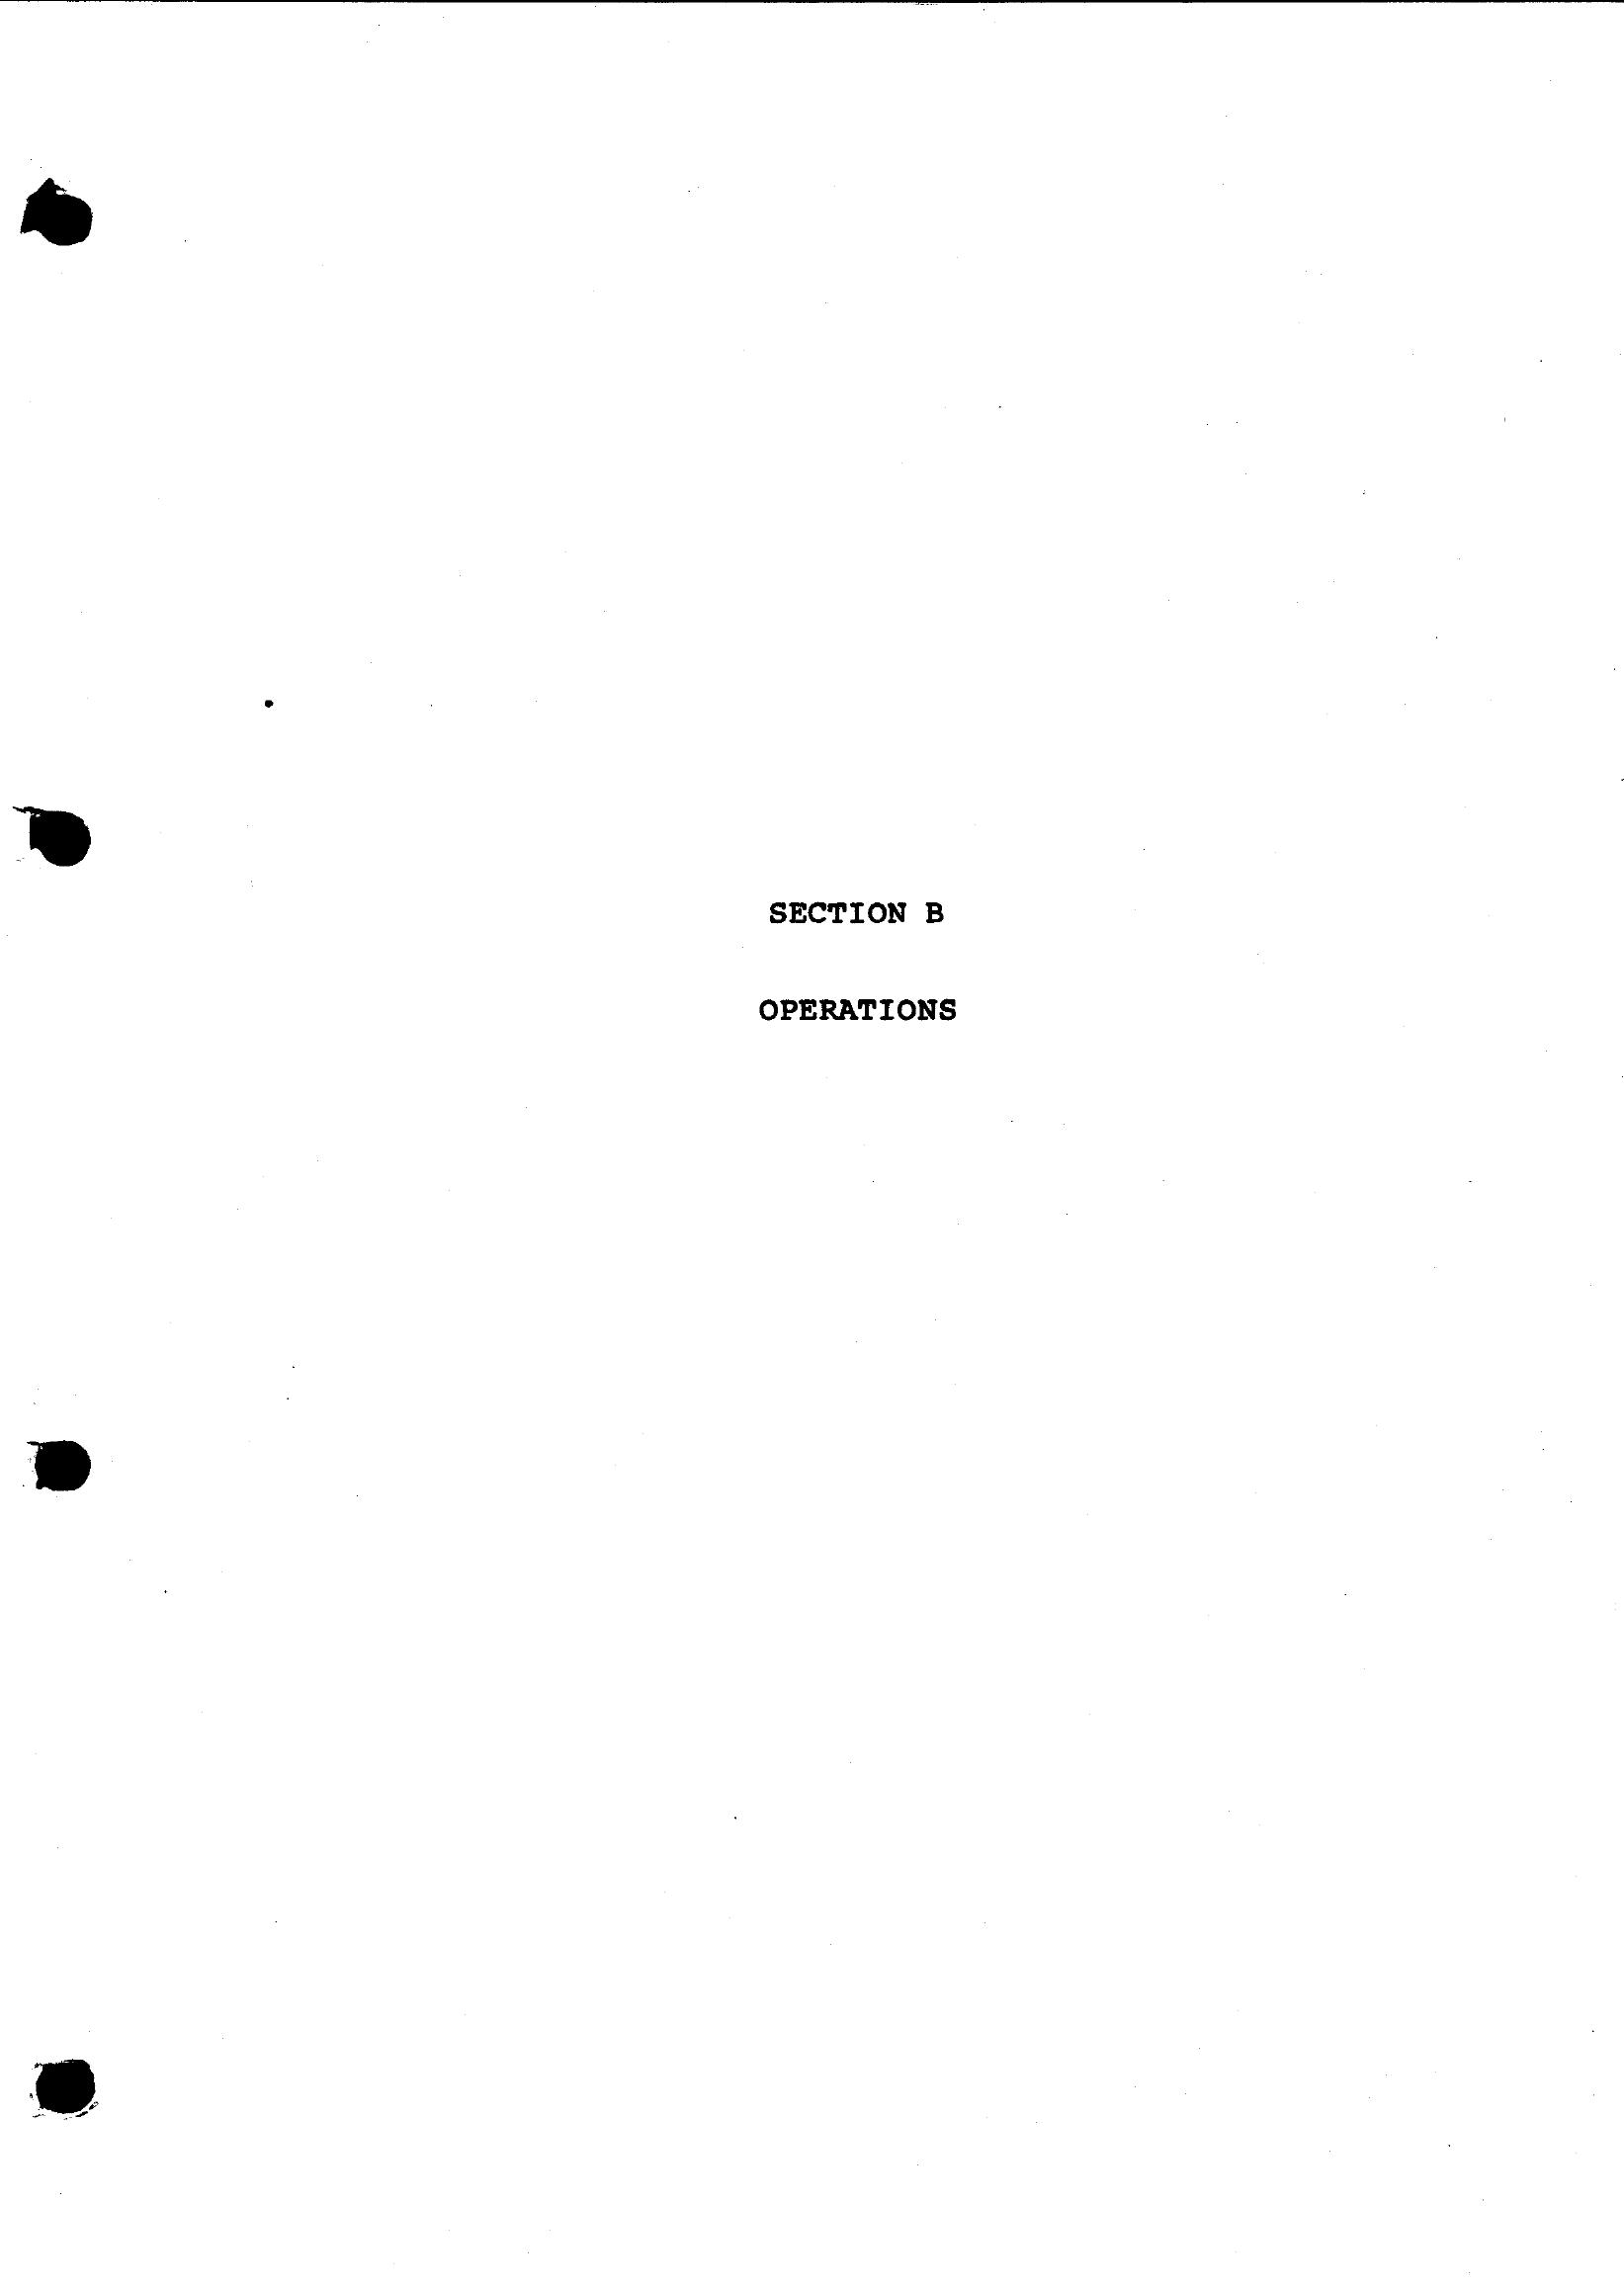text: (733, 877, 1033, 1072)
